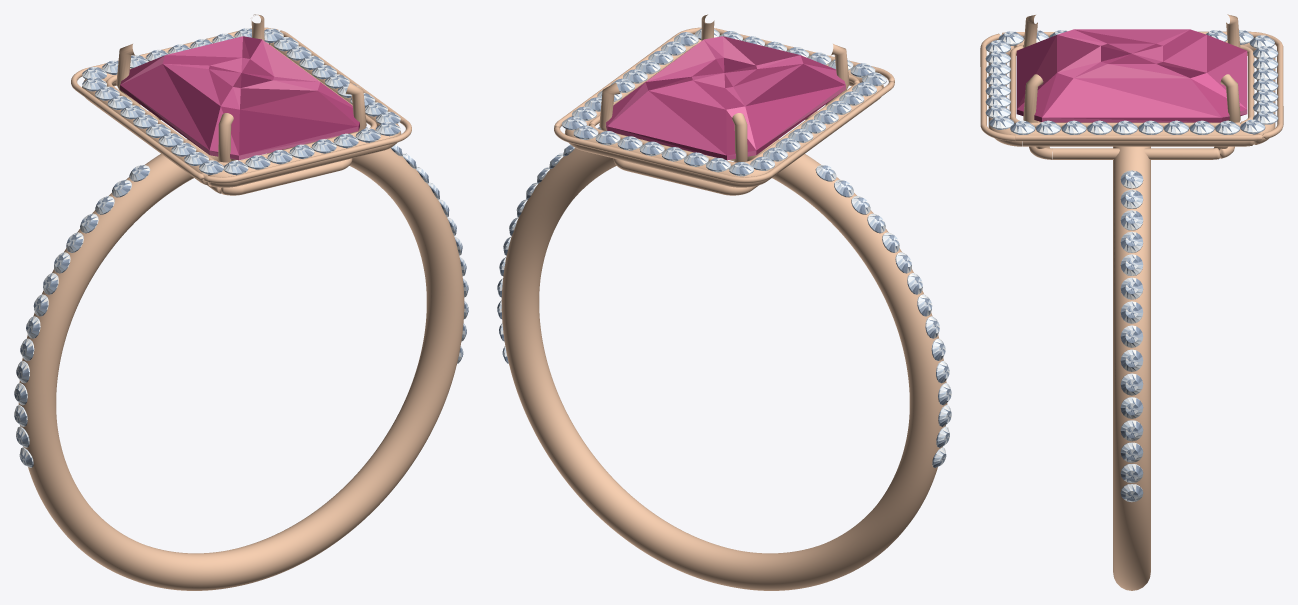
File: pink-ring.glb
The picture shows the model from 3 angles, left to right: view 1: azimuth 30°, elevation 25°; view 2: azimuth 150°, elevation 25°; view 3: azimuth 270°, elevation 25°; orthographic projection.
Parts seen in each view (by area): view 1: Pink gemstone halo ring; view 2: Pink gemstone halo ring; view 3: Pink gemstone halo ring.
Boxes of the visible parts, x1=… form: Pink gemstone halo ring: x1=14, y1=14, x2=468, y2=590; Pink gemstone halo ring: x1=497, y1=14, x2=951, y2=590; Pink gemstone halo ring: x1=980, y1=14, x2=1283, y2=590.
Bounding box in the file's own units: 0.0198 × 0.0219 × 0.0115.
